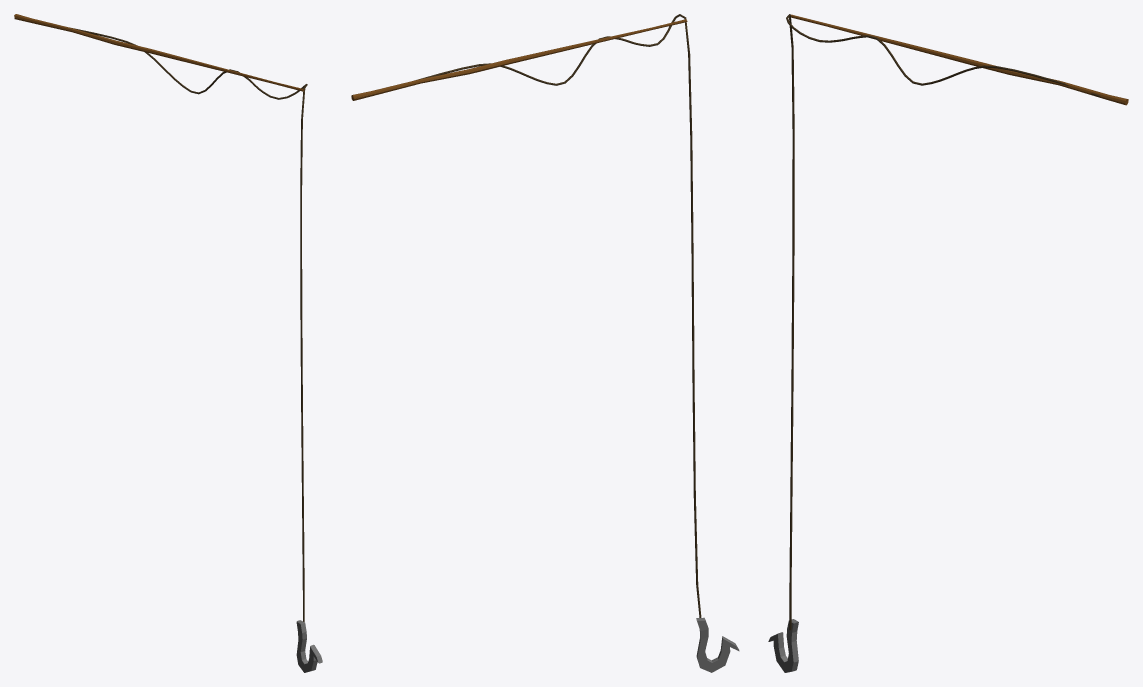
Rendered from Beach_House_Fishing_Rod_01.fbx.
The picture shows the model from 3 angles, left to right: view 1: azimuth 90°, elevation 25°; view 2: azimuth 150°, elevation 25°; view 3: azimuth 270°, elevation 25°; orthographic projection. The views are drawn at different scales.
Parts seen in each view (by area): view 1: Beach_House_Fishing_Rod_01; view 2: Beach_House_Fishing_Rod_01; view 3: Beach_House_Fishing_Rod_01.
Boxes of the visible parts, x1=… form: Beach_House_Fishing_Rod_01: x1=14, y1=14, x2=322, y2=672; Beach_House_Fishing_Rod_01: x1=351, y1=14, x2=739, y2=672; Beach_House_Fishing_Rod_01: x1=768, y1=14, x2=1128, y2=672.
Bounding box in the file's own units: 4.08 × 11.68 × 5.67.
